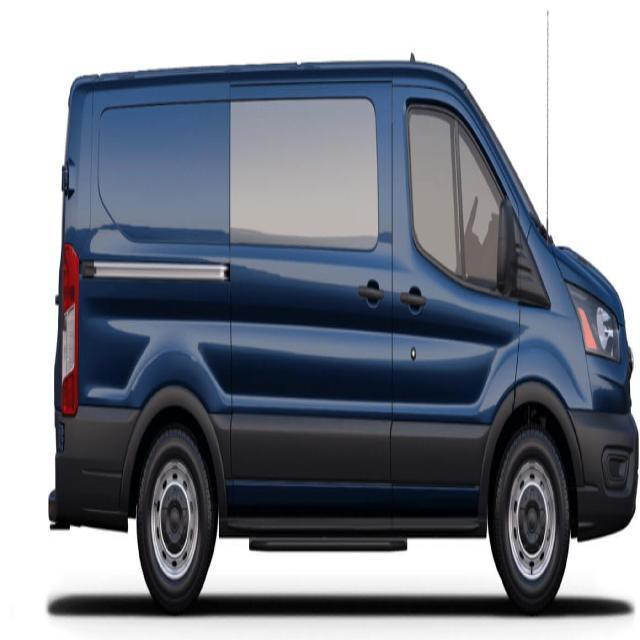truck: (48, 52, 638, 615)
